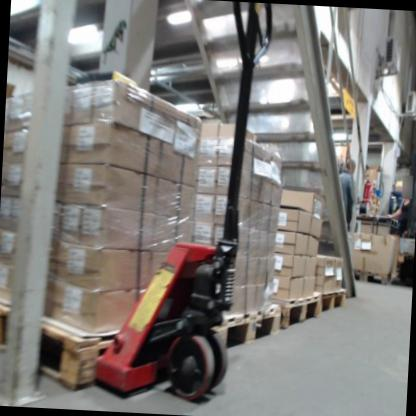pallet: (41, 327, 99, 392), (219, 299, 284, 352), (279, 289, 322, 332), (319, 286, 348, 317), (352, 269, 396, 286)
pallet_truck: (86, 0, 279, 410), (396, 144, 416, 287)
